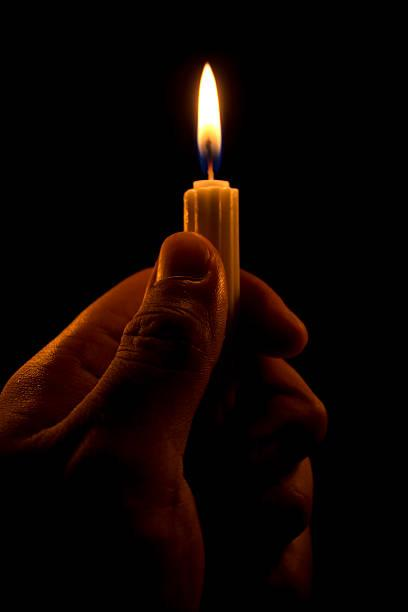Fire: (191, 58, 230, 175)
